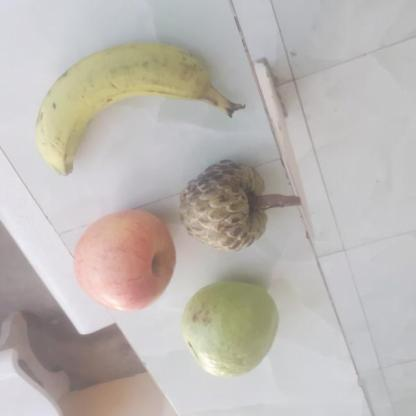annona: (180, 163, 272, 252)
apple: (70, 212, 180, 312)
banana: (37, 42, 245, 176)
guava: (183, 283, 282, 374)
